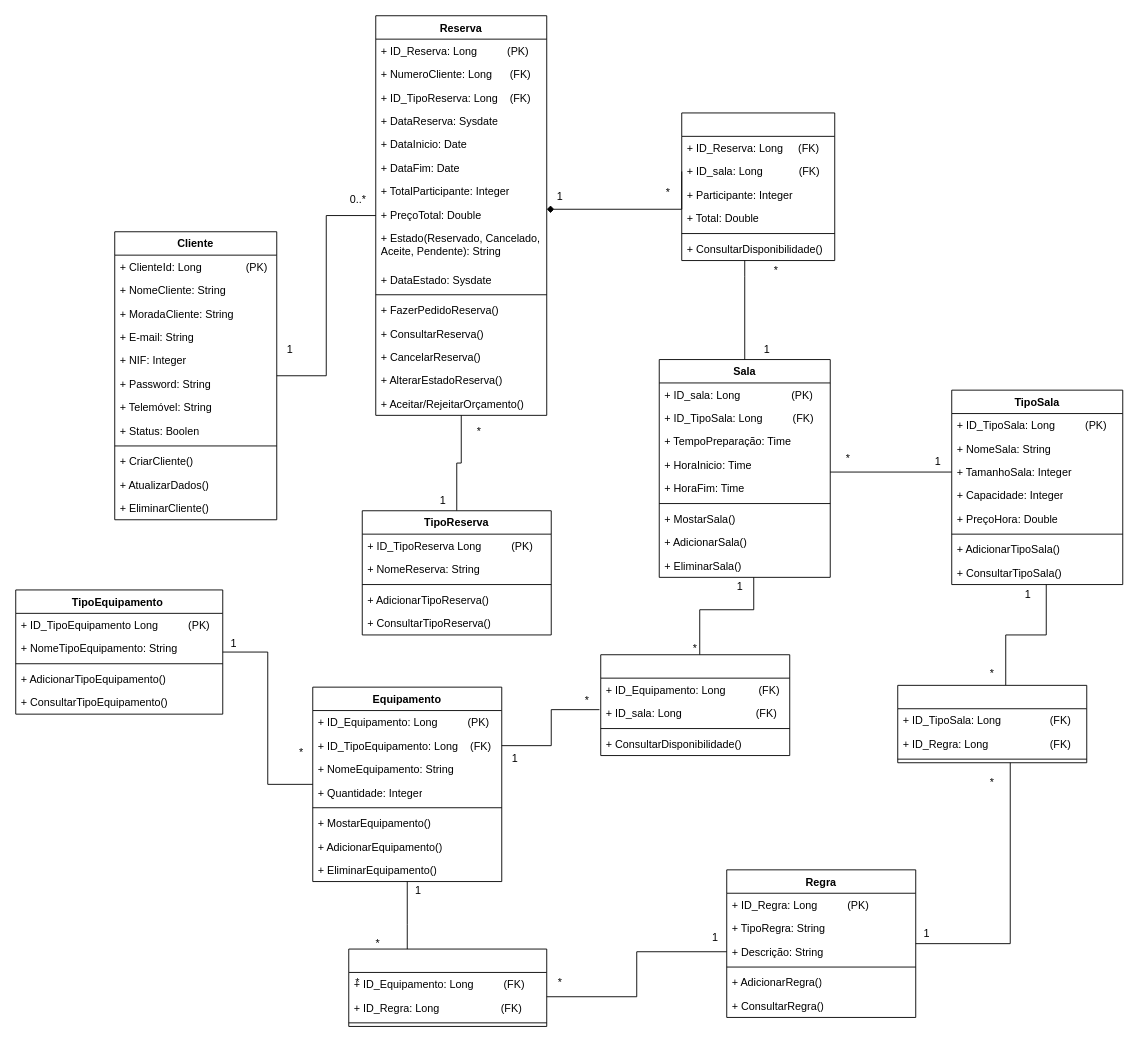
Some shapes in this 1139 by 1042 pixel diagram are drawn without their labels. Each missing label, with the box of its shape:
RegraEquipamento: (348, 948, 547, 1026)
RegraSala: (897, 684, 1087, 763)
ReservaSala: (681, 112, 835, 261)
SalaEquipamento: (600, 654, 790, 756)
